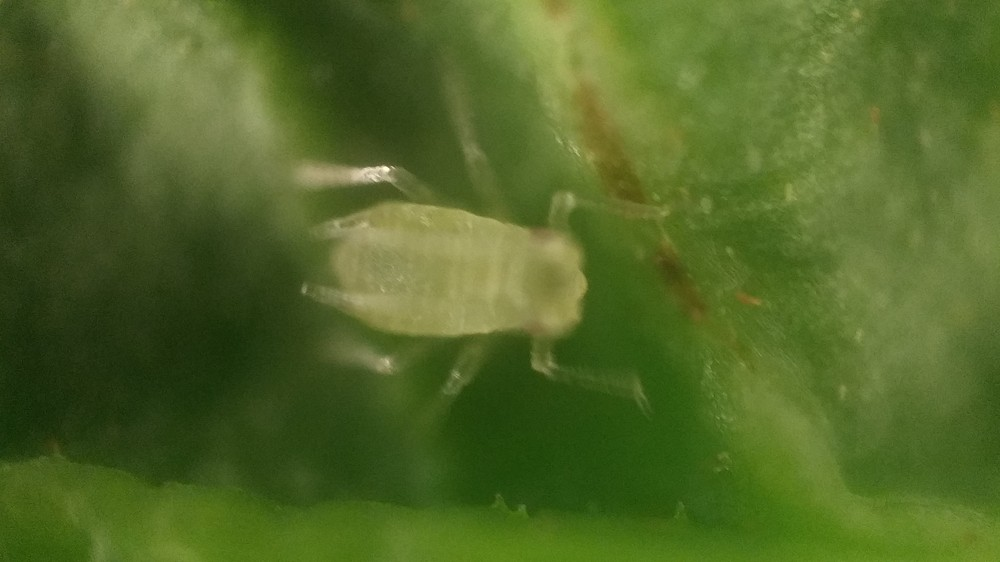Pulgon: (277, 94, 726, 466)
